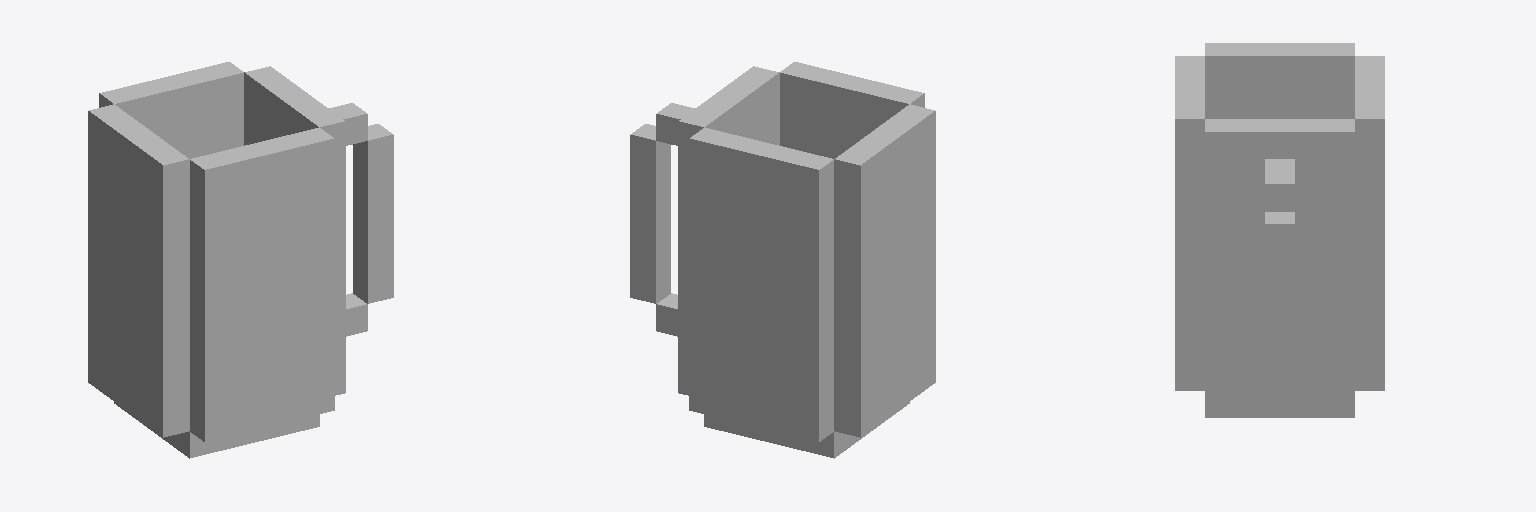
Rendered from Water jug.obj.
3 renders of one model, left to right at view 1: azimuth 30°, elevation 25°; view 2: azimuth 150°, elevation 25°; view 3: azimuth 270°, elevation 25°, orthographic.
Size of the model in its own units: 10 by 11 by 7.